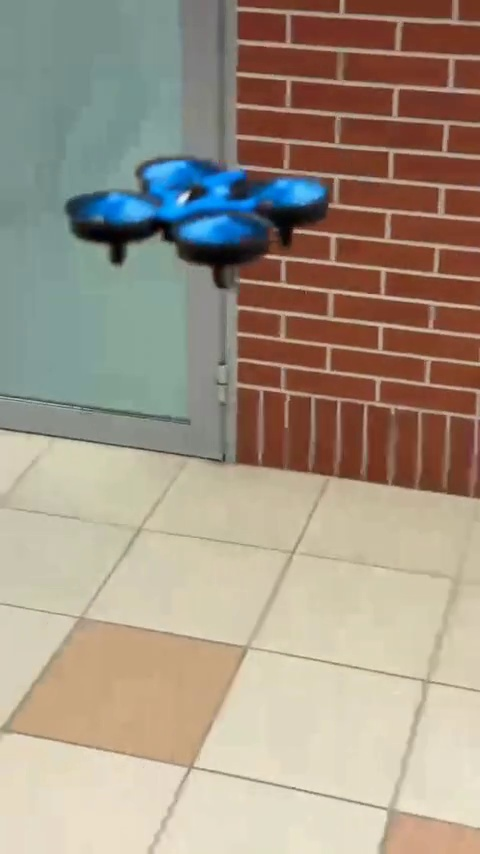drone: (74, 157, 337, 279)
